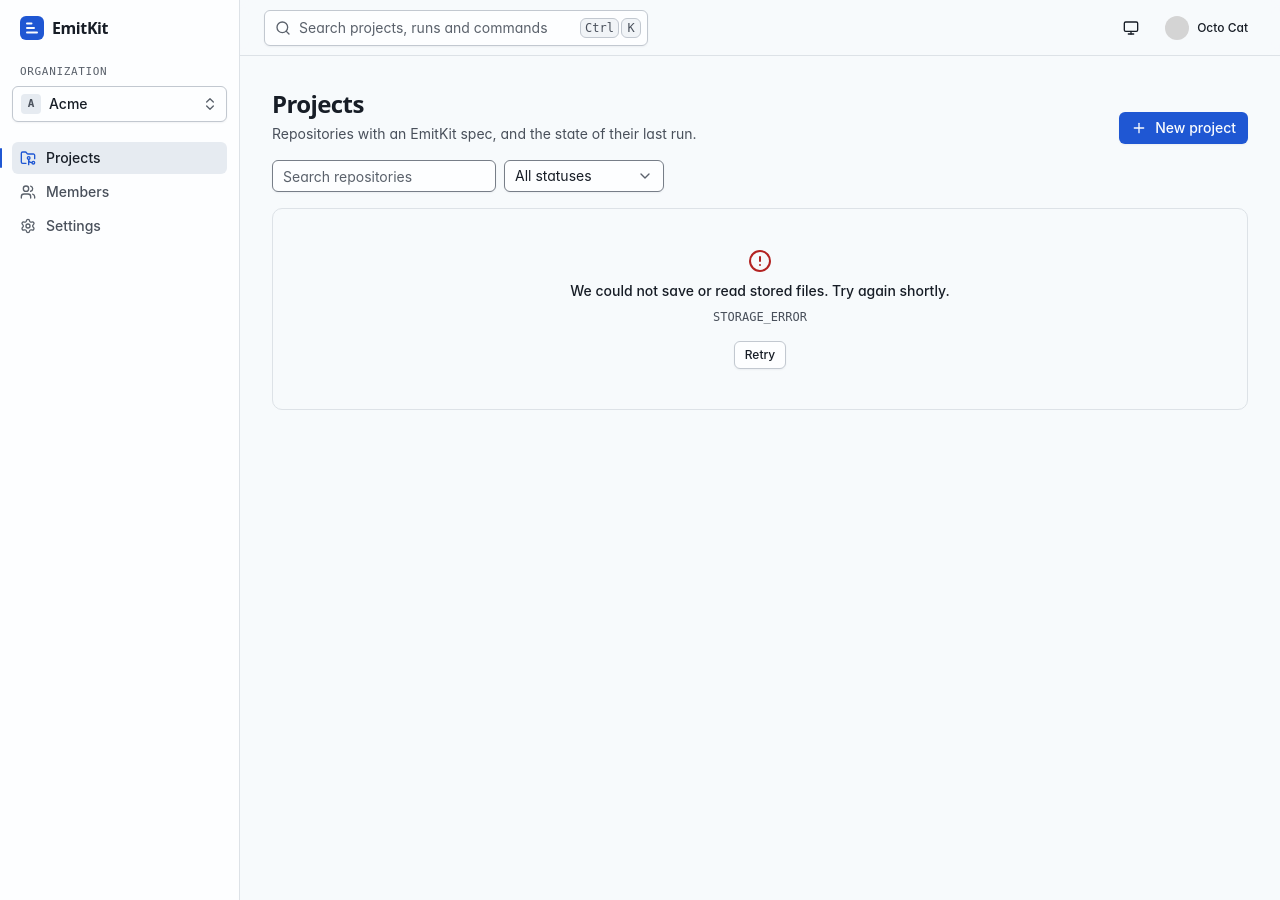
Test: a failed load shows the error code, and Retry loads the list again
expect the message shows "We could not save or read stored files. Try again shortly.": met, box [570, 282, 950, 299]
expect the text "STORAGE_ERROR" is shown: met, box [713, 309, 807, 325]
Click the button "Retry" at (760, 355), box [734, 341, 786, 369]
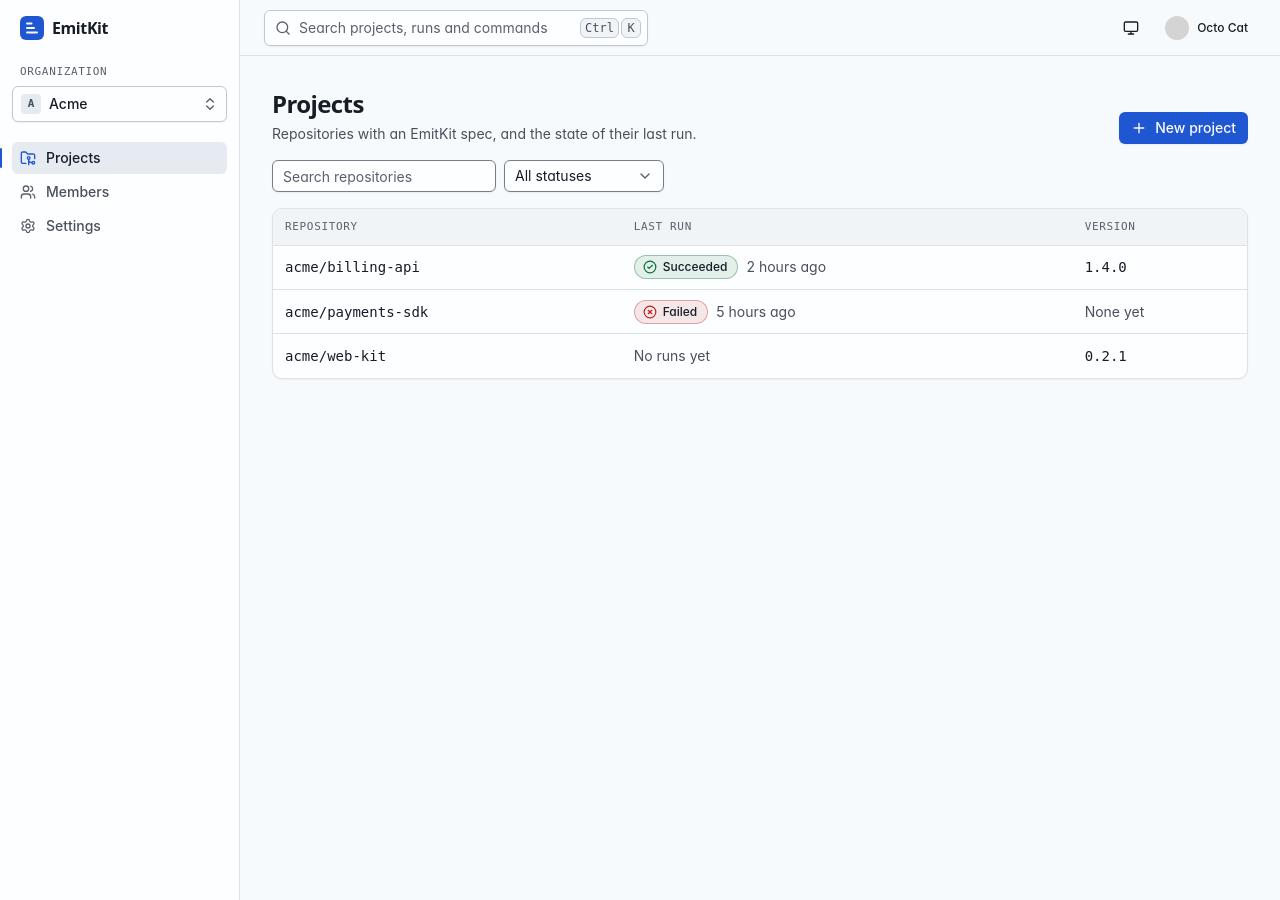
expect the link "acme/billing-api" is shown: met, box [285, 259, 420, 275]
